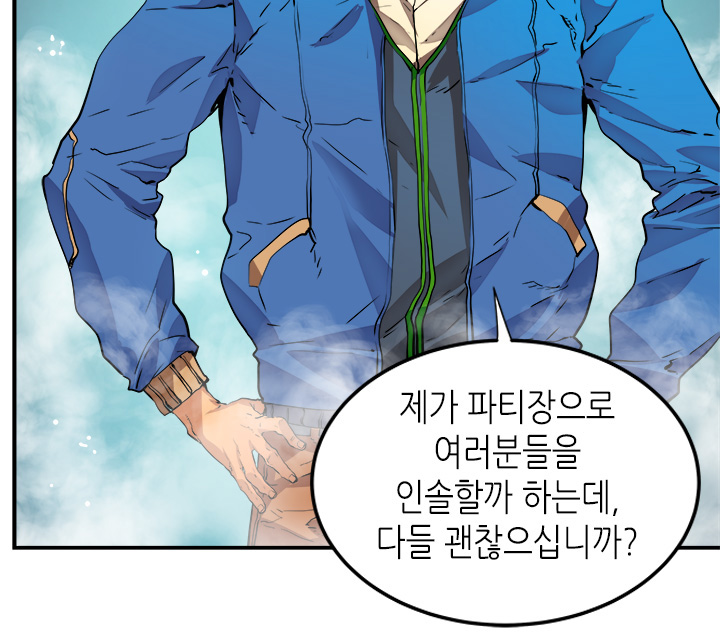dialog box: (293, 262, 715, 641)
text: (363, 369, 656, 585)
